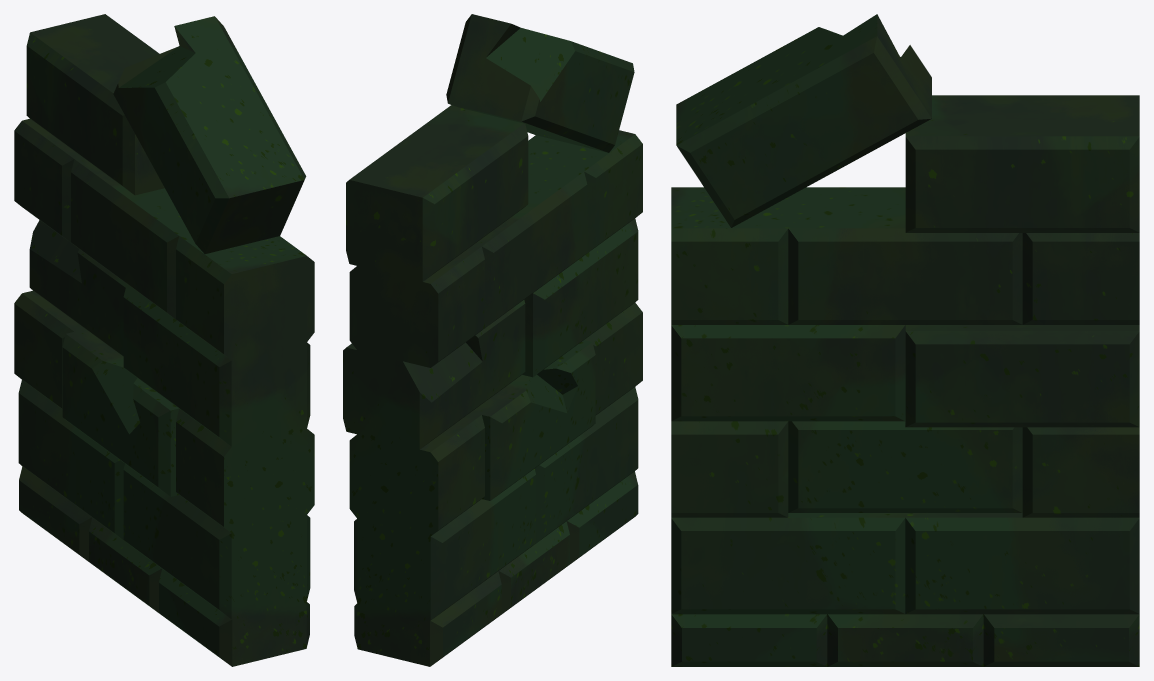
File: gen_wall_5.fbx
3 views of the same model, side by side, from view 1: azimuth 30°, elevation 25°; view 2: azimuth 150°, elevation 25°; view 3: azimuth 270°, elevation 25° (orthographic). The views are drawn at different scales.
Visible parts, largest first — view 1: gen_wall_5; view 2: gen_wall_5; view 3: gen_wall_5.
Part boxes in pixels (<box>): gen_wall_5: <box>14,14,314,666</box>; gen_wall_5: <box>343,14,642,666</box>; gen_wall_5: <box>671,14,1139,666</box>.
Size of the model in its own units: 243 by 1189 by 800.
